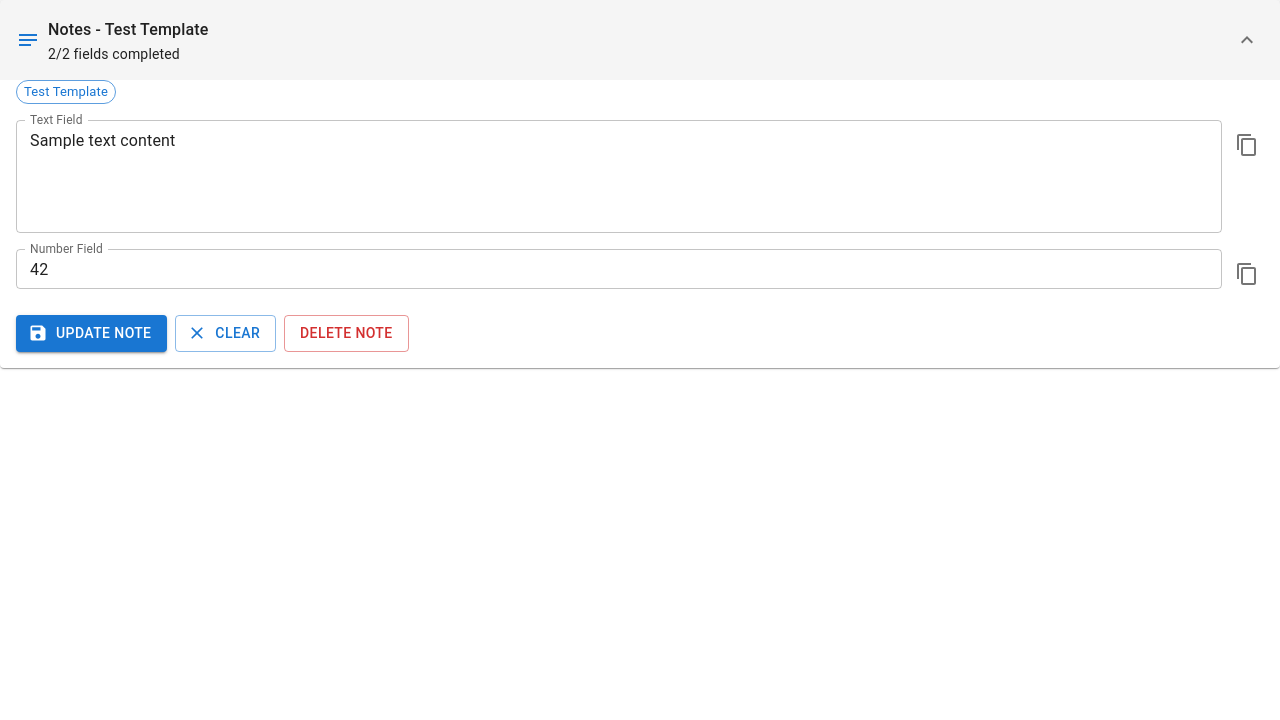
it: NoteEditor Copy Functionality › copies field content to clipboard when copy button is clicked
Click the button titled "Copy Text Field content" at (1247, 145), box 1230,128 -> 1264,162
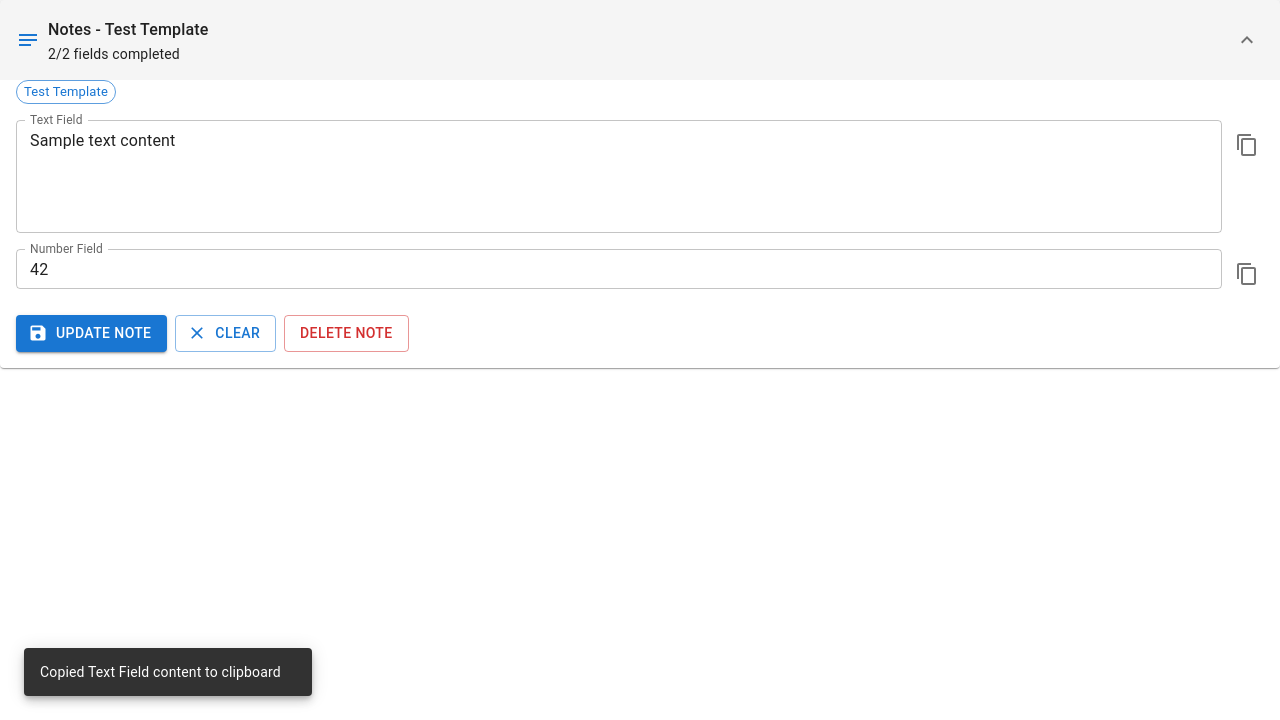
Expected: the text "Copied Text Field content to clipboard" is shown, 40,664 -> 281,680
